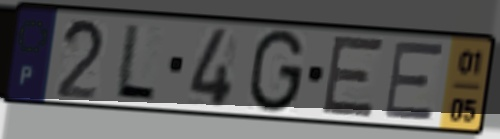2: (52, 16, 110, 101)
4: (187, 26, 236, 110)
E: (318, 33, 388, 121), (382, 40, 447, 123)
G: (245, 27, 308, 116)
L: (110, 20, 159, 104)
